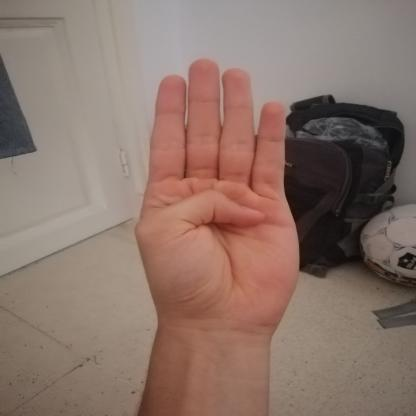KAAF: (107, 45, 324, 352)
